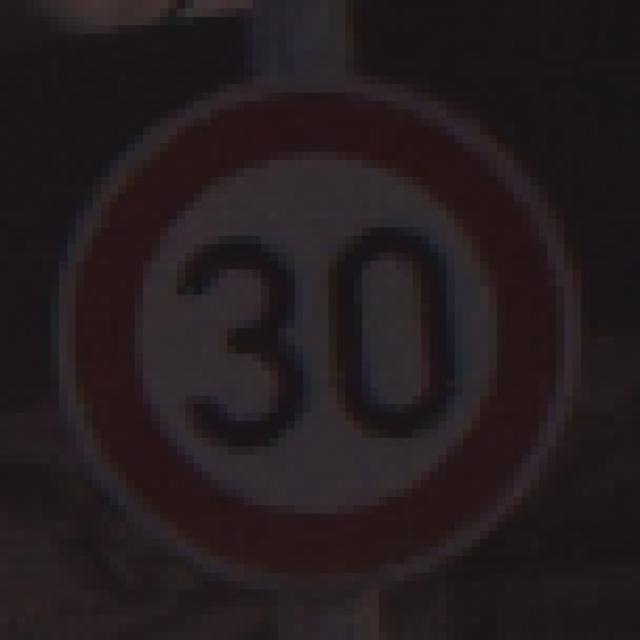Speed Limit -30-: (46, 47, 577, 586)
